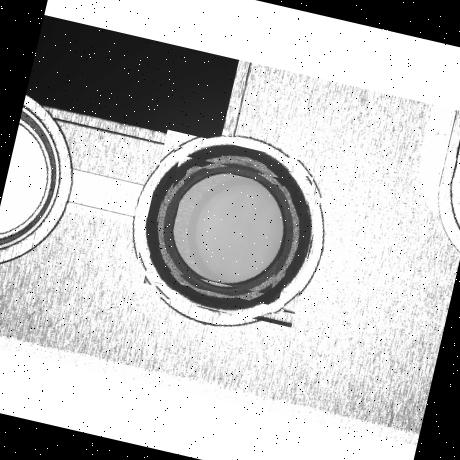Hole: (130, 130, 329, 328)
Hole2: (143, 145, 313, 316)
Hole3: (152, 154, 306, 307)
Hole4: (163, 164, 295, 296)
